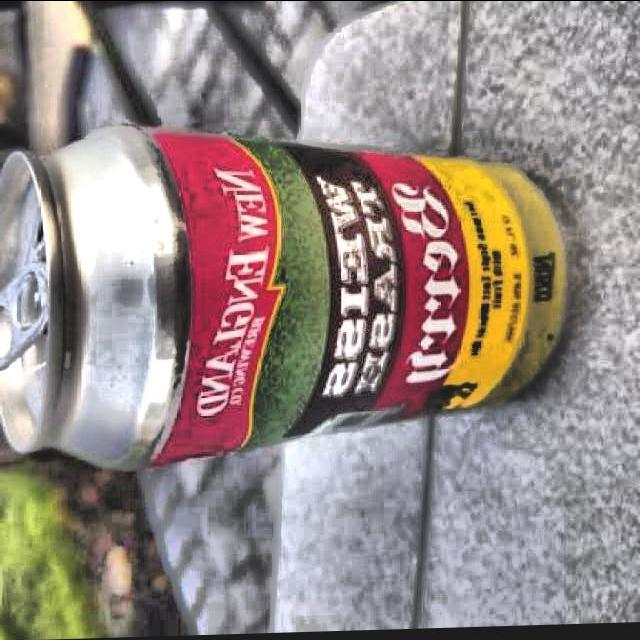litter: (0, 113, 585, 478)
